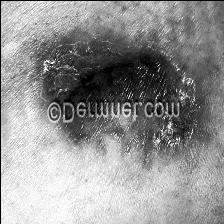Potentially Malignant Skin Tumors: (42, 36, 212, 98), (67, 125, 201, 157)
